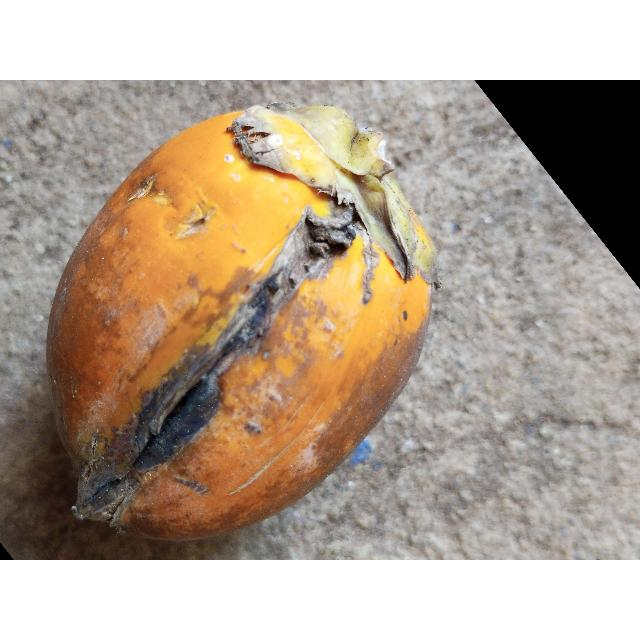damaged: (47, 107, 438, 539)
